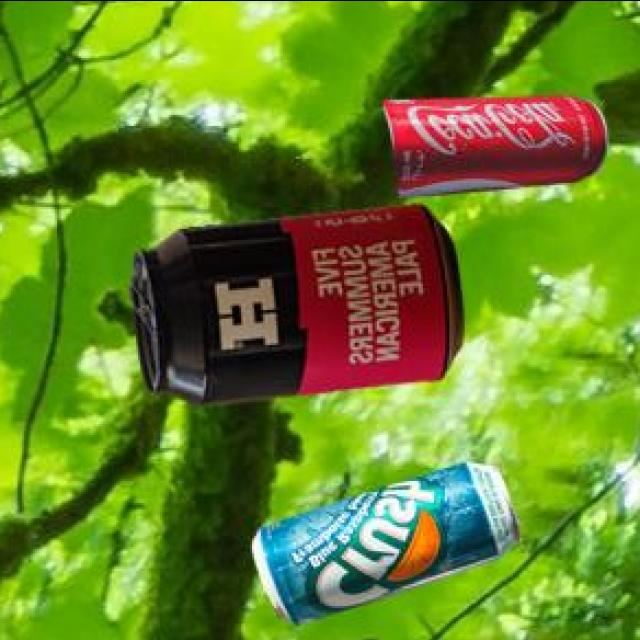logam: (126, 201, 459, 402), (249, 459, 518, 621), (380, 91, 604, 194)
